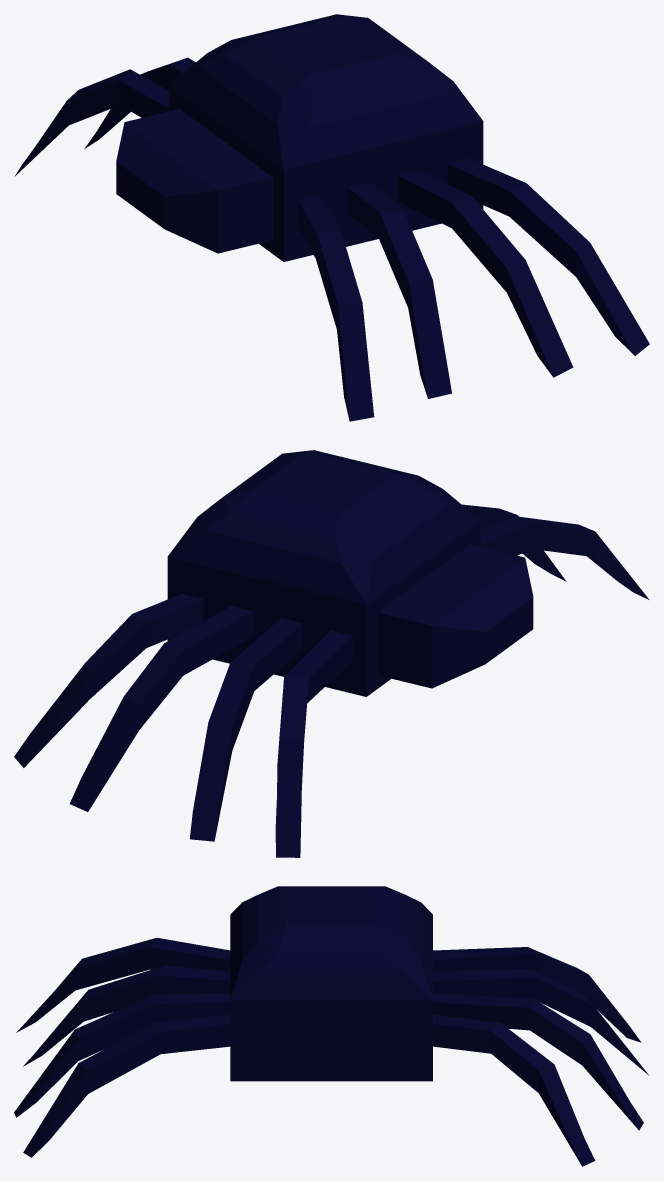
File: spider.fbx
The picture shows the model from 3 angles, top to bottom: view 1: azimuth 30°, elevation 25°; view 2: azimuth 150°, elevation 25°; view 3: azimuth 270°, elevation 25°; orthographic projection. The views are drawn at different scales.
Parts seen in each view (by area): view 1: Cube; view 2: Cube; view 3: Cube.
Part boxes in pixels (box(x1,y1,x2,y2)): Cube: box(14, 14, 649, 421); Cube: box(14, 450, 649, 857); Cube: box(14, 886, 649, 1166).
Size of the model in its own units: 35.53 by 21.04 by 62.8.
